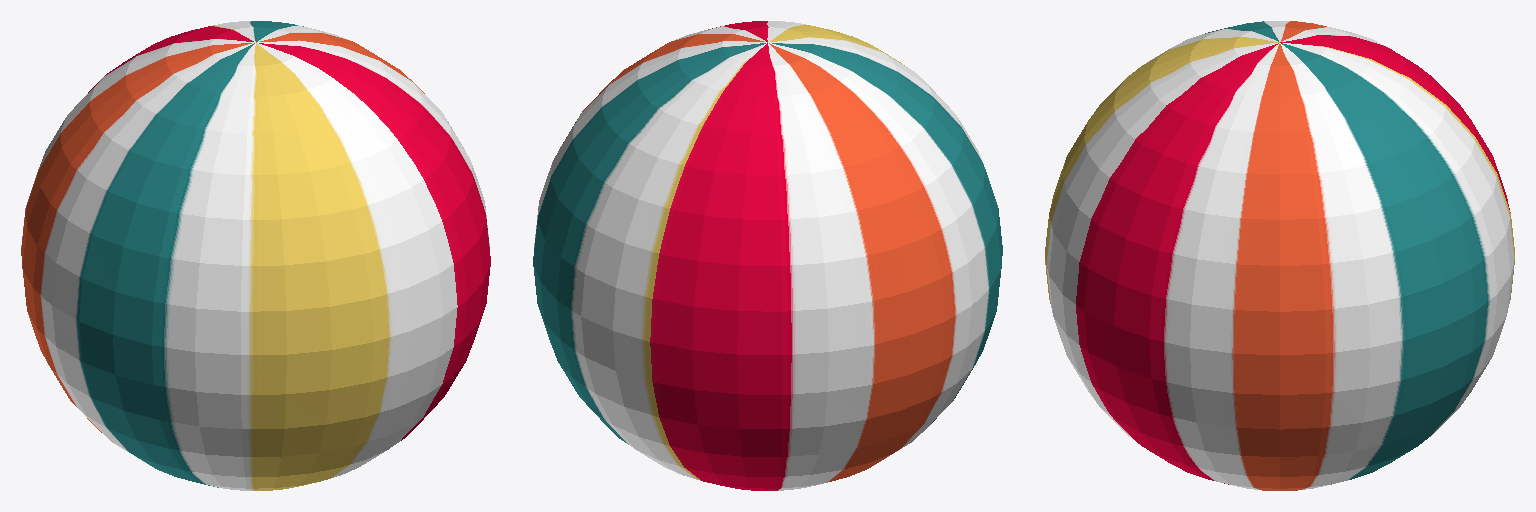
3 views of the same model, side by side, from view 1: azimuth 30°, elevation 25°; view 2: azimuth 150°, elevation 25°; view 3: azimuth 270°, elevation 25° (orthographic).
Parts seen in each view (by area): view 1: Sphere001; view 2: Sphere001; view 3: Sphere001.
Boxes of the visible parts, box(x1,y1,x2,y2) form: Sphere001: box(21, 21, 490, 490); Sphere001: box(533, 21, 1002, 490); Sphere001: box(1045, 21, 1514, 490).
Bounding box in the file's own units: 5.74 × 5.74 × 5.74.
1 materials, 1 textured.